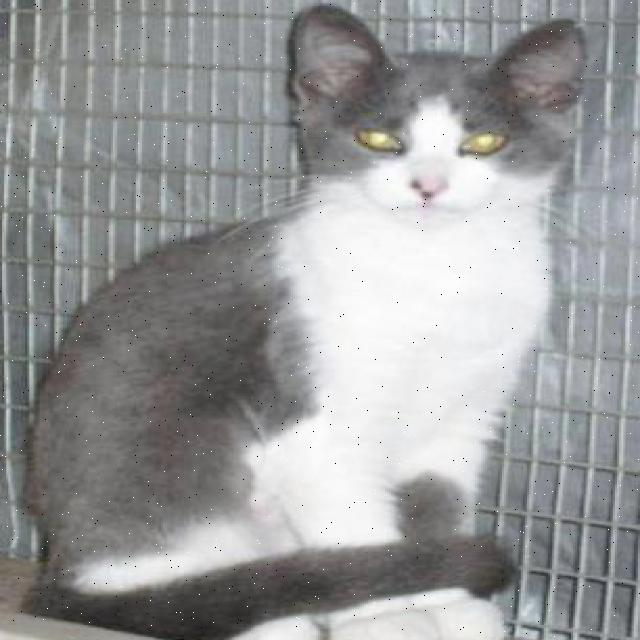Cat: (280, 1, 595, 248)
